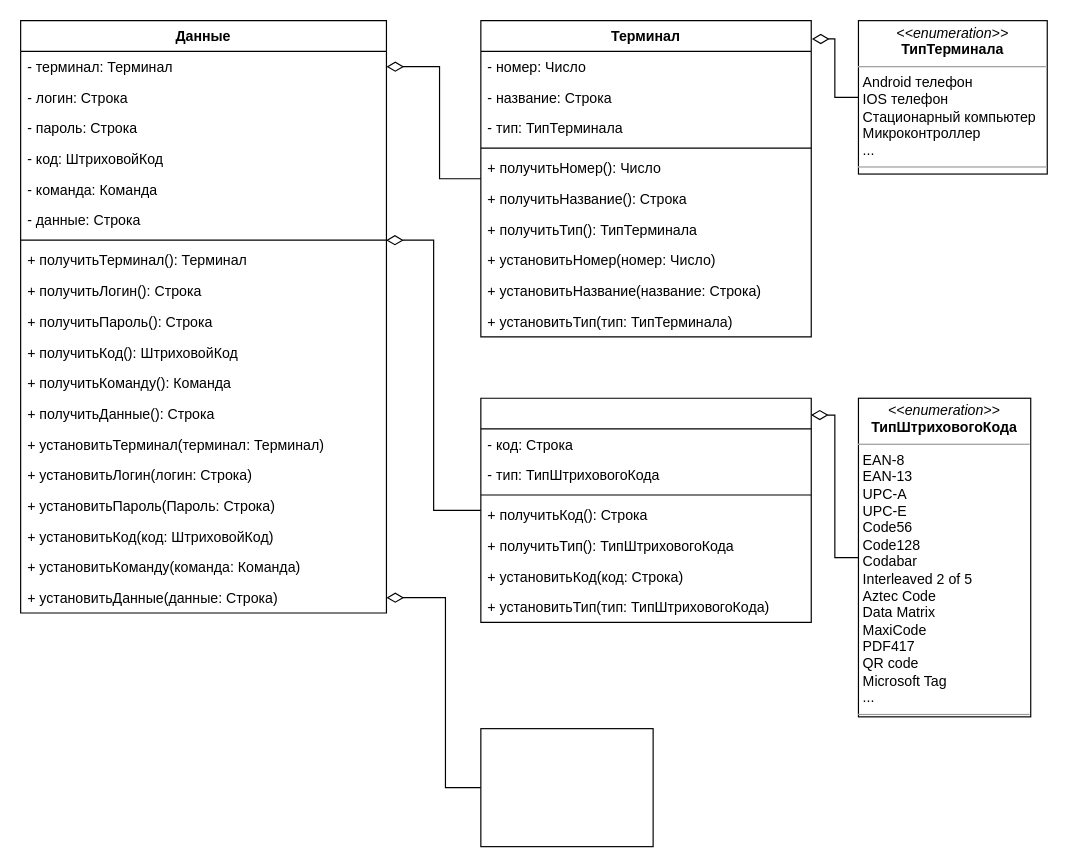
Image size: 1068x867. Some labels were removed from this diagram. Here are the shapes that lost their labels. From the top down, the box of each, then its label:
(480, 397, 811, 622): ШтриховойКод
(480, 727, 653, 847): <<enumeration>> Команда Получить Отправить Статус
